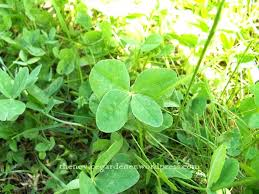4-clover: (88, 58, 178, 132)
